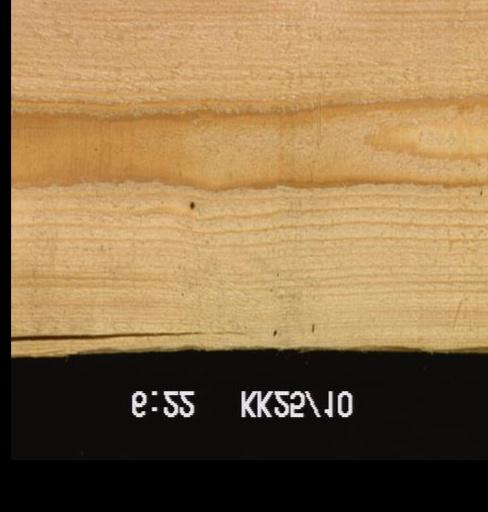small_knot: (184, 196, 199, 212)
split: (11, 326, 251, 348)
